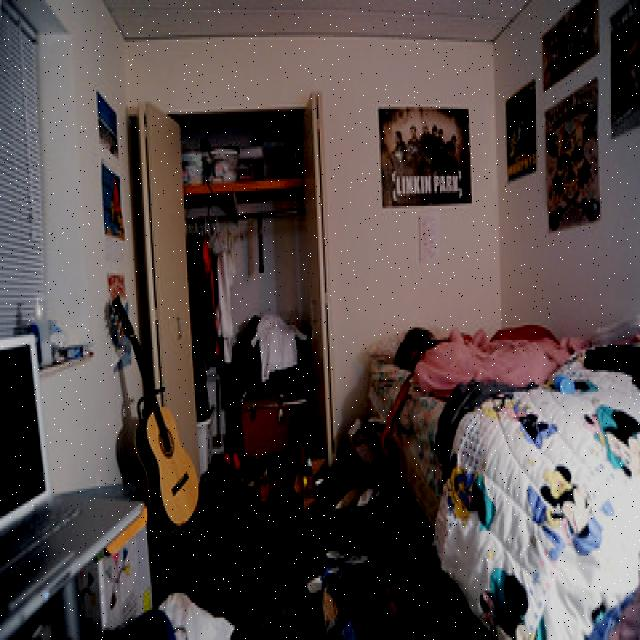bed: (357, 320, 640, 640)
